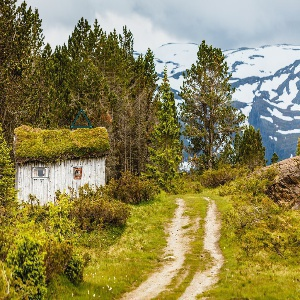triangle: (69, 107, 93, 130)
